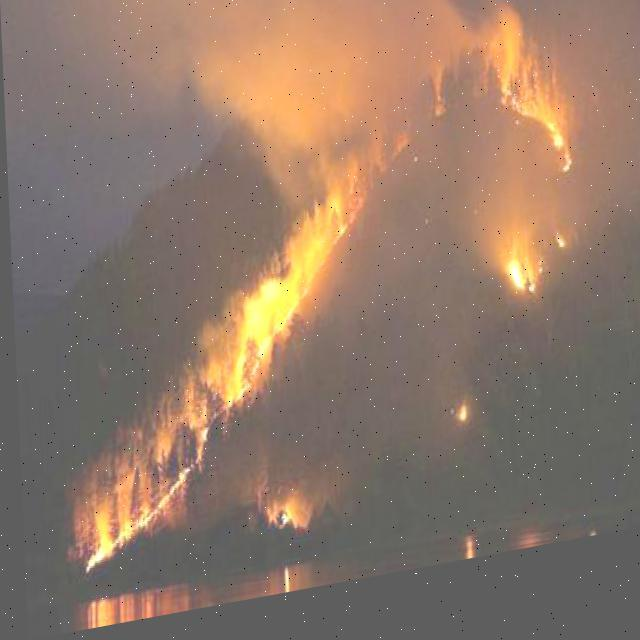Fire: (64, 42, 578, 574)
